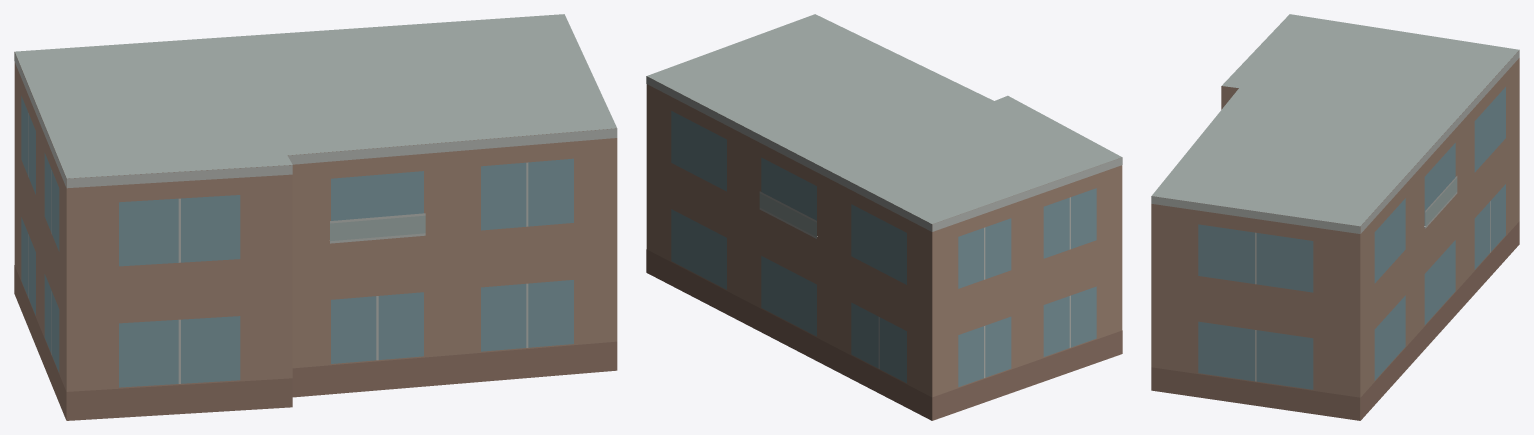
The model's file is survey-upis-32678418.glb.
3 views of the same model, side by side, from view 1: azimuth 30°, elevation 25°; view 2: azimuth 150°, elevation 25°; view 3: azimuth 270°, elevation 25° (orthographic). The views are drawn at different scales.
Visible parts, largest first — view 1: survey-upis-32678418.tmp; view 2: survey-upis-32678418.tmp; view 3: survey-upis-32678418.tmp.
Part boxes in pixels (box(x1,y1,x2,y2)): survey-upis-32678418.tmp: box(14, 14, 617, 420); survey-upis-32678418.tmp: box(646, 14, 1122, 420); survey-upis-32678418.tmp: box(1151, 14, 1519, 420).
Bounding box in the file's own units: 14.29 × 6.1 × 10.47.
